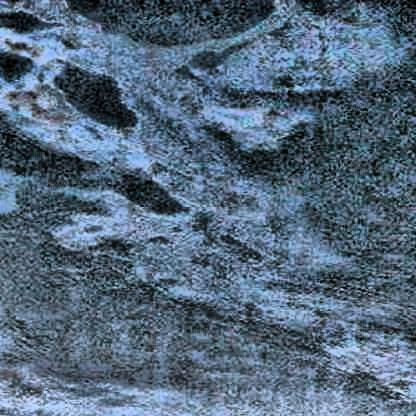sheen: (9, 0, 406, 291)
